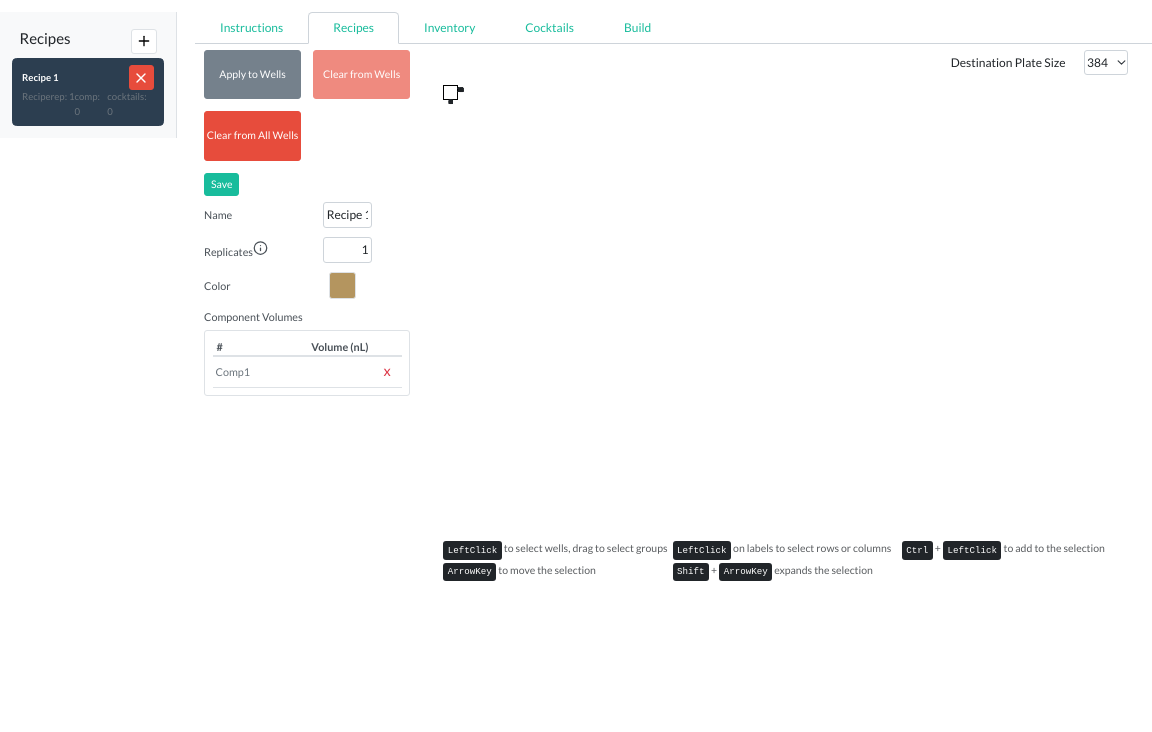
Test: CocktailBuilder designer smoke test › the inventory form accepts a content and volume
Click the tab "Inventory": (450, 28) [399,12,500,44]
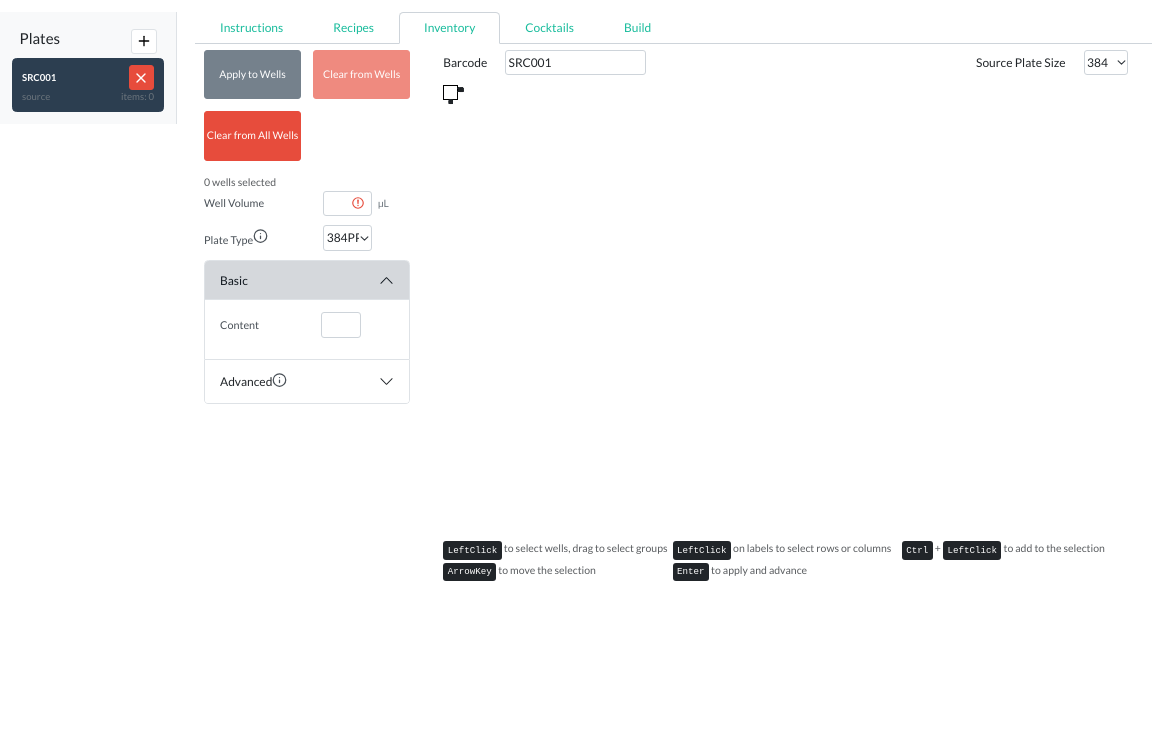
In the number field labelled "Well Volume": (348, 203) [323,190,372,216], type "50"
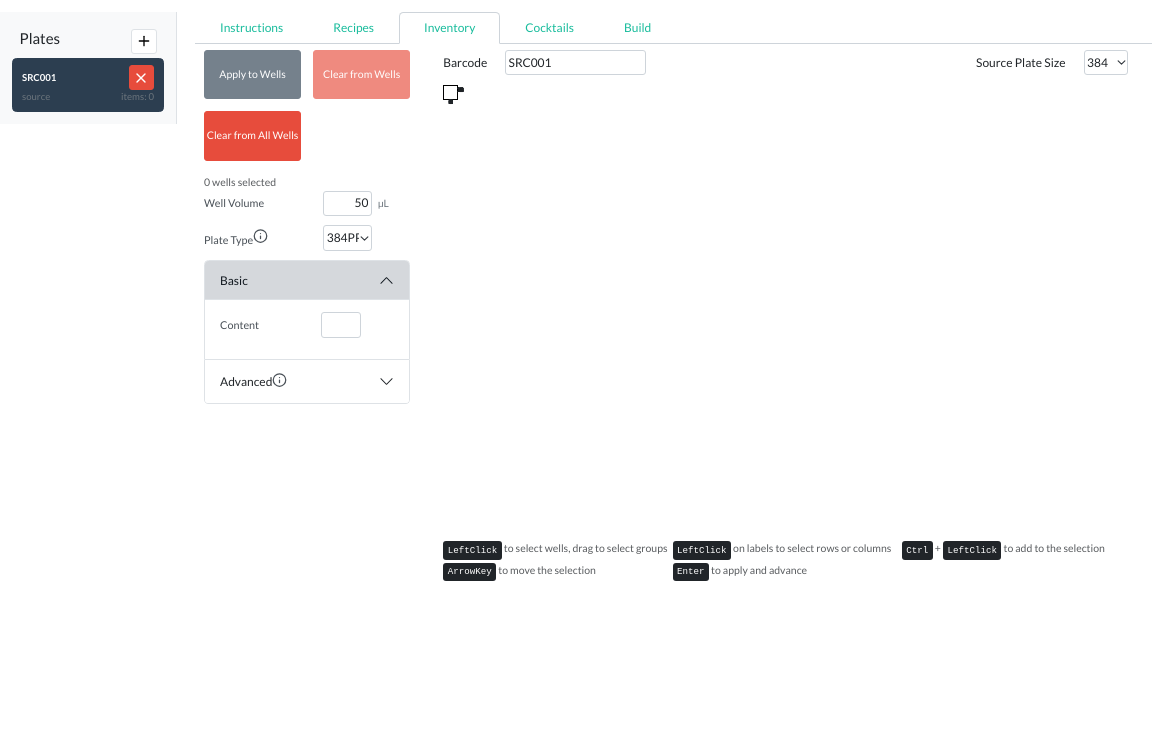
In the field labelled "Content": (341, 325) [321,312,361,338], type "Comp1"
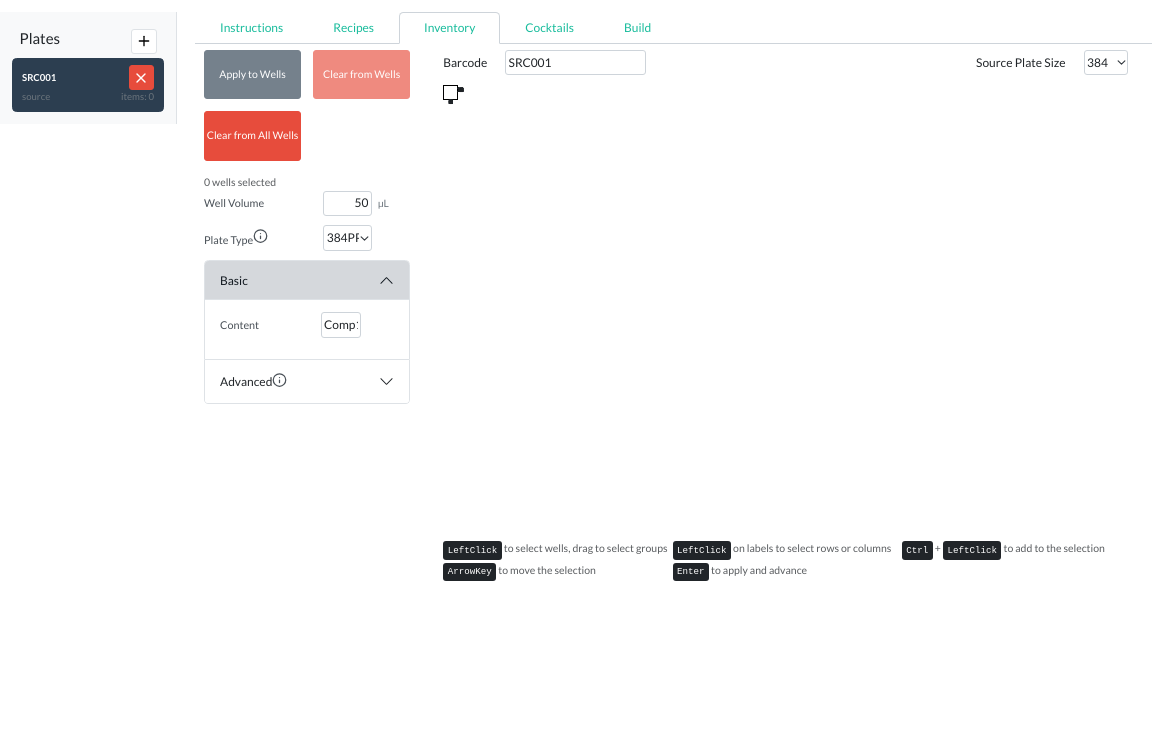
Hover over the element showing "Apply to Wells": (253, 75) [204,50,301,99]
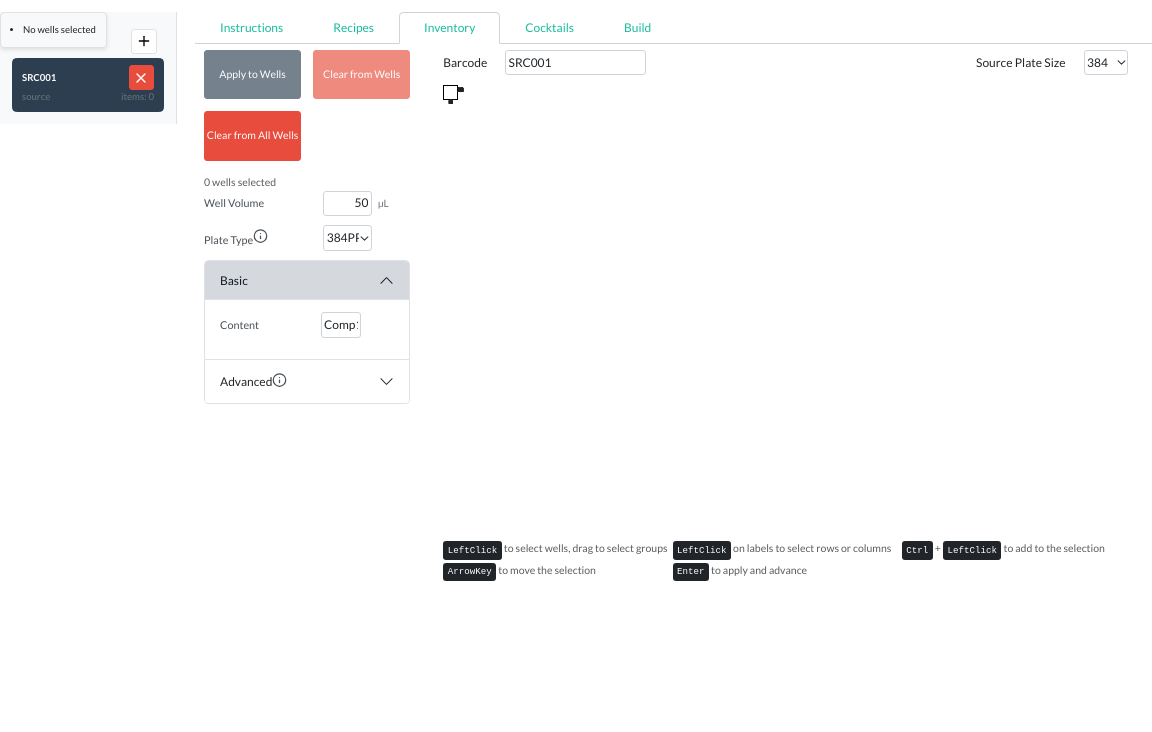
Check: the list item "No wells selected" is shown, box [23,23,96,37]
